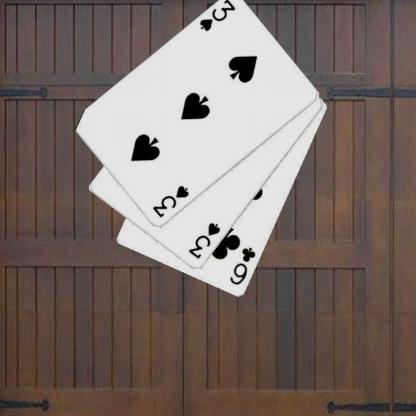3S: (150, 183, 190, 219), (186, 219, 221, 260), (196, 0, 237, 33)
6C: (227, 245, 257, 286)
